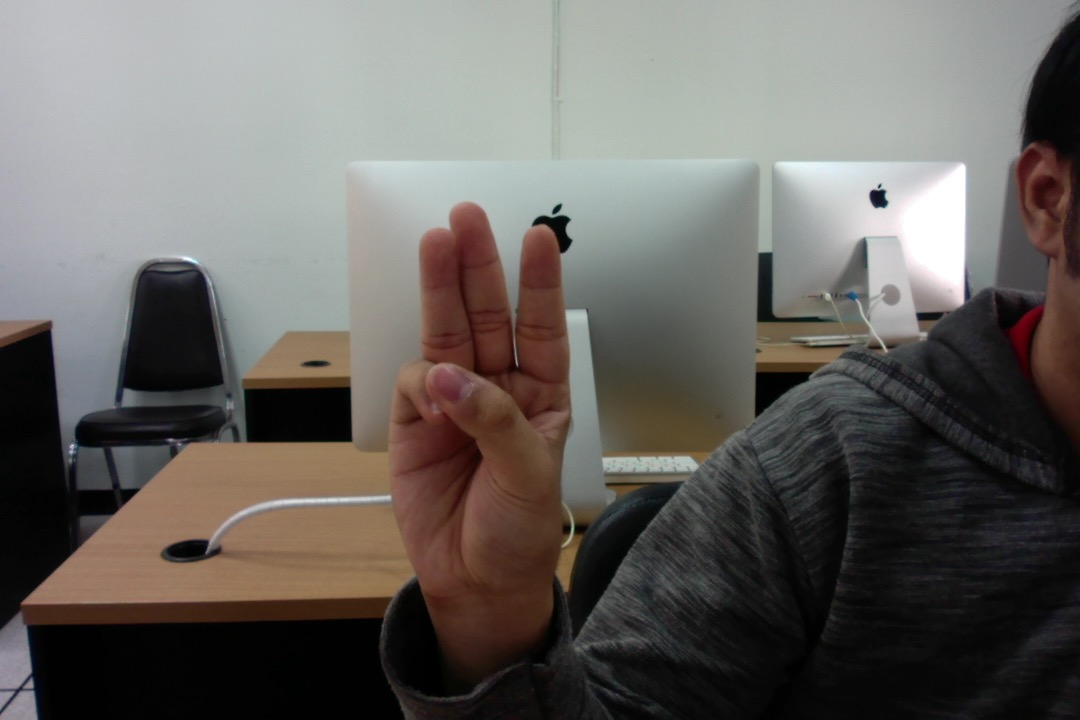wor: (372, 195, 605, 645)
